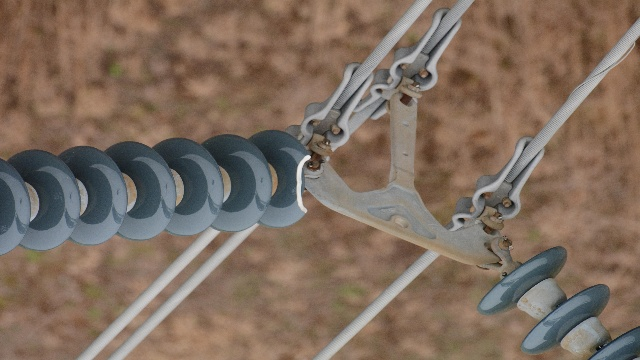broken_local: (295, 152, 311, 216)
insulator_unspecified: (0, 130, 313, 255), (478, 245, 639, 359)
